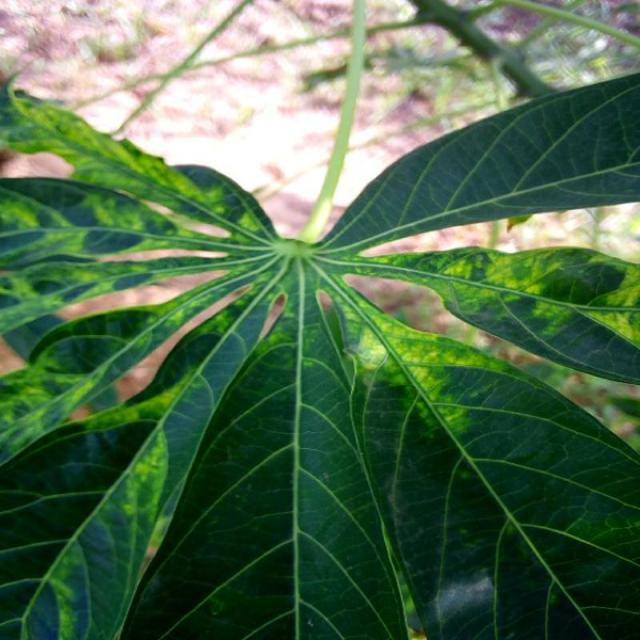cassava leaf: (0, 60, 639, 639)
